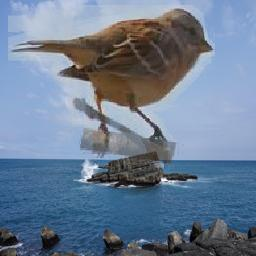Sparrow: (9, 6, 216, 173)
